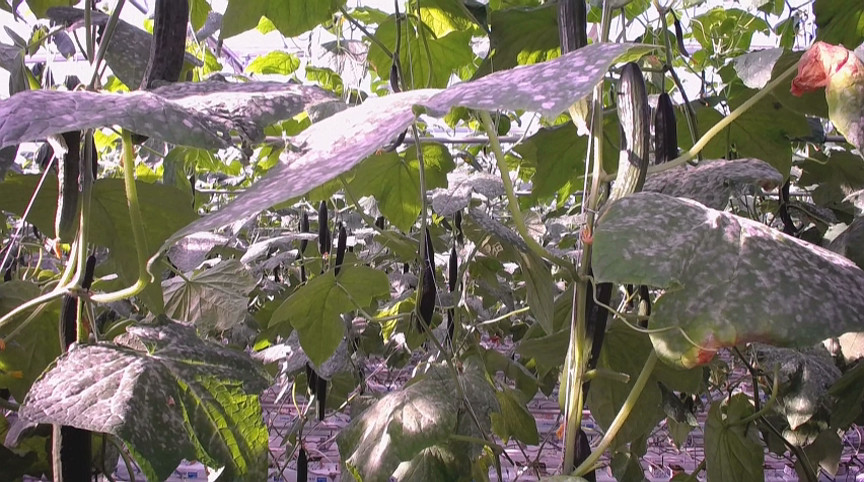cucumber: (608, 61, 649, 200), (134, 1, 190, 95), (560, 1, 594, 137), (59, 256, 97, 351), (55, 128, 81, 240), (655, 93, 677, 167), (420, 232, 436, 332)
